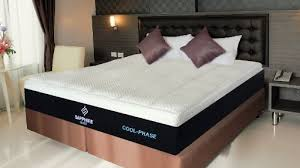bed-matress: (22, 55, 265, 155)
